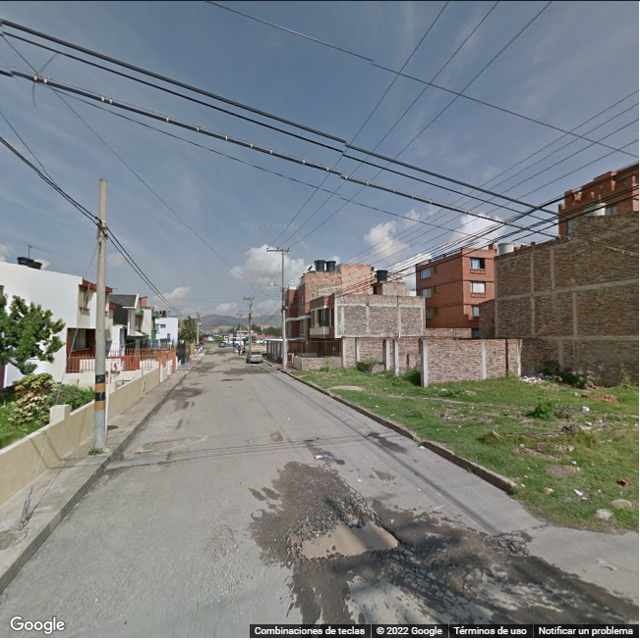D40: (301, 505, 401, 571)
